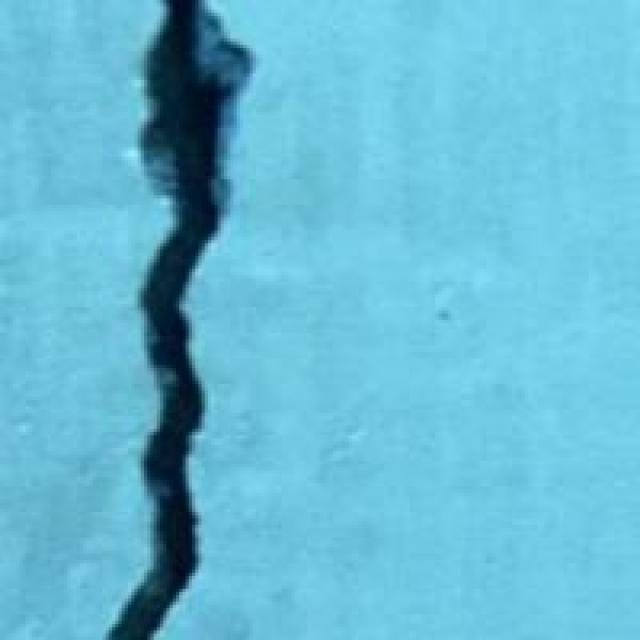crack: (29, 3, 355, 637)
